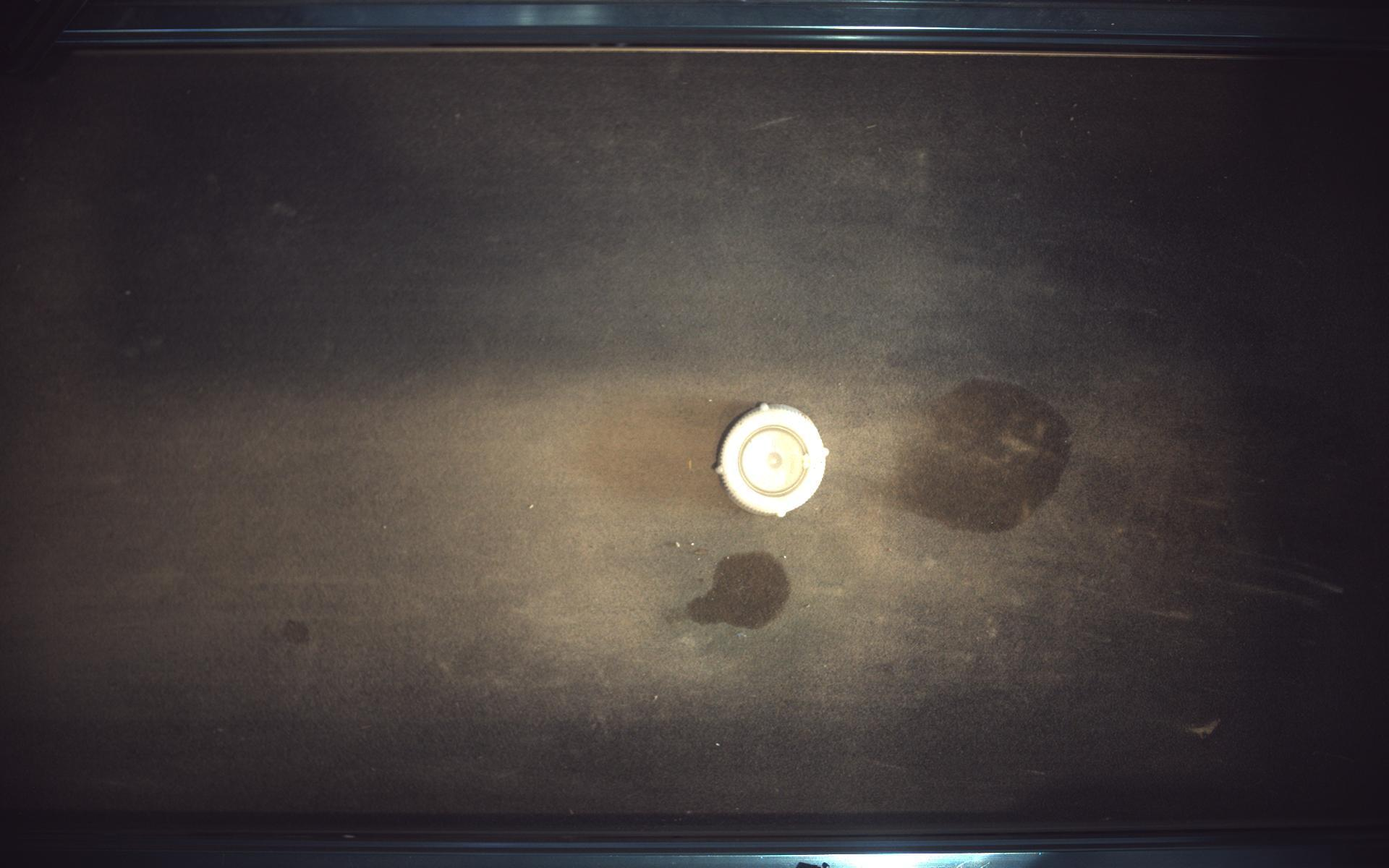general_w: (716, 403, 831, 518)
